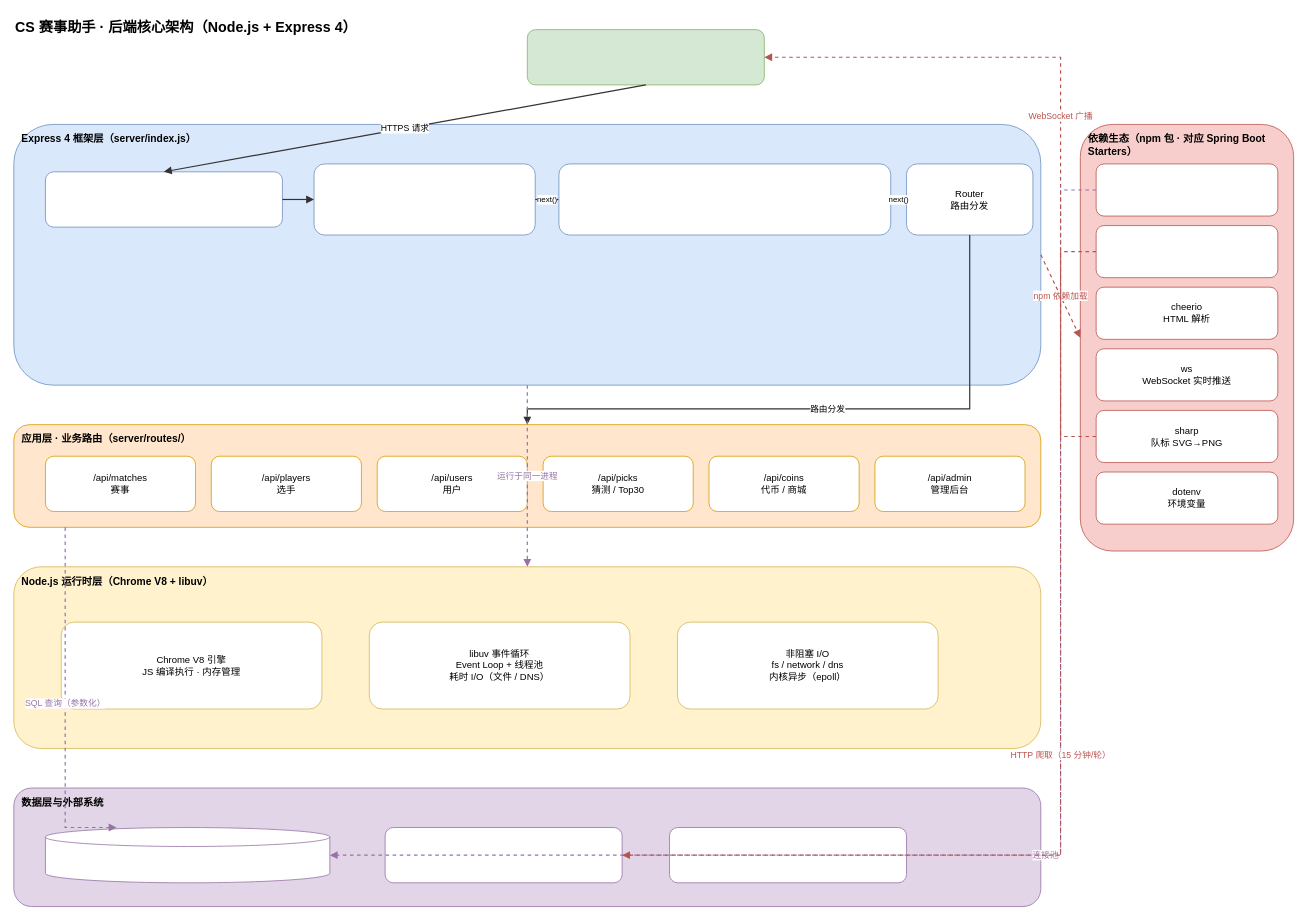
Some shapes in this 1307 by 920 pixel diagram are drawn without their labels. The shapes that lost their labels are listed below. From the top down, each one's centre as x and y in pixels, then its label:
[645,57]: 客户端层 微信小程序 / Web SPA / 管理后台
[163,199]: 内嵌 HTTP Server Node http 模块 监听 :3001
[424,199]: Application app 实例：装配中间件与路由
[724,199]: Middleware 中间件栈 cors → morgan 日志 → express.json 身份认证 → 静态资源
[1186,189]: mysql2 Promise 接口 · 参数化查询
[1186,251]: axios 微信接口 + 5eplay
[187,855]: MySQL 数据库 19 张表 + 2 视图
[503,855]: 5eplay 赛事数据源
[788,855]: 微信开放平台 登录 / 广告接口
